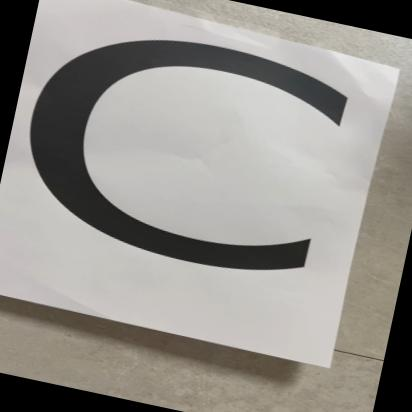seat: (0, 0, 386, 371)
